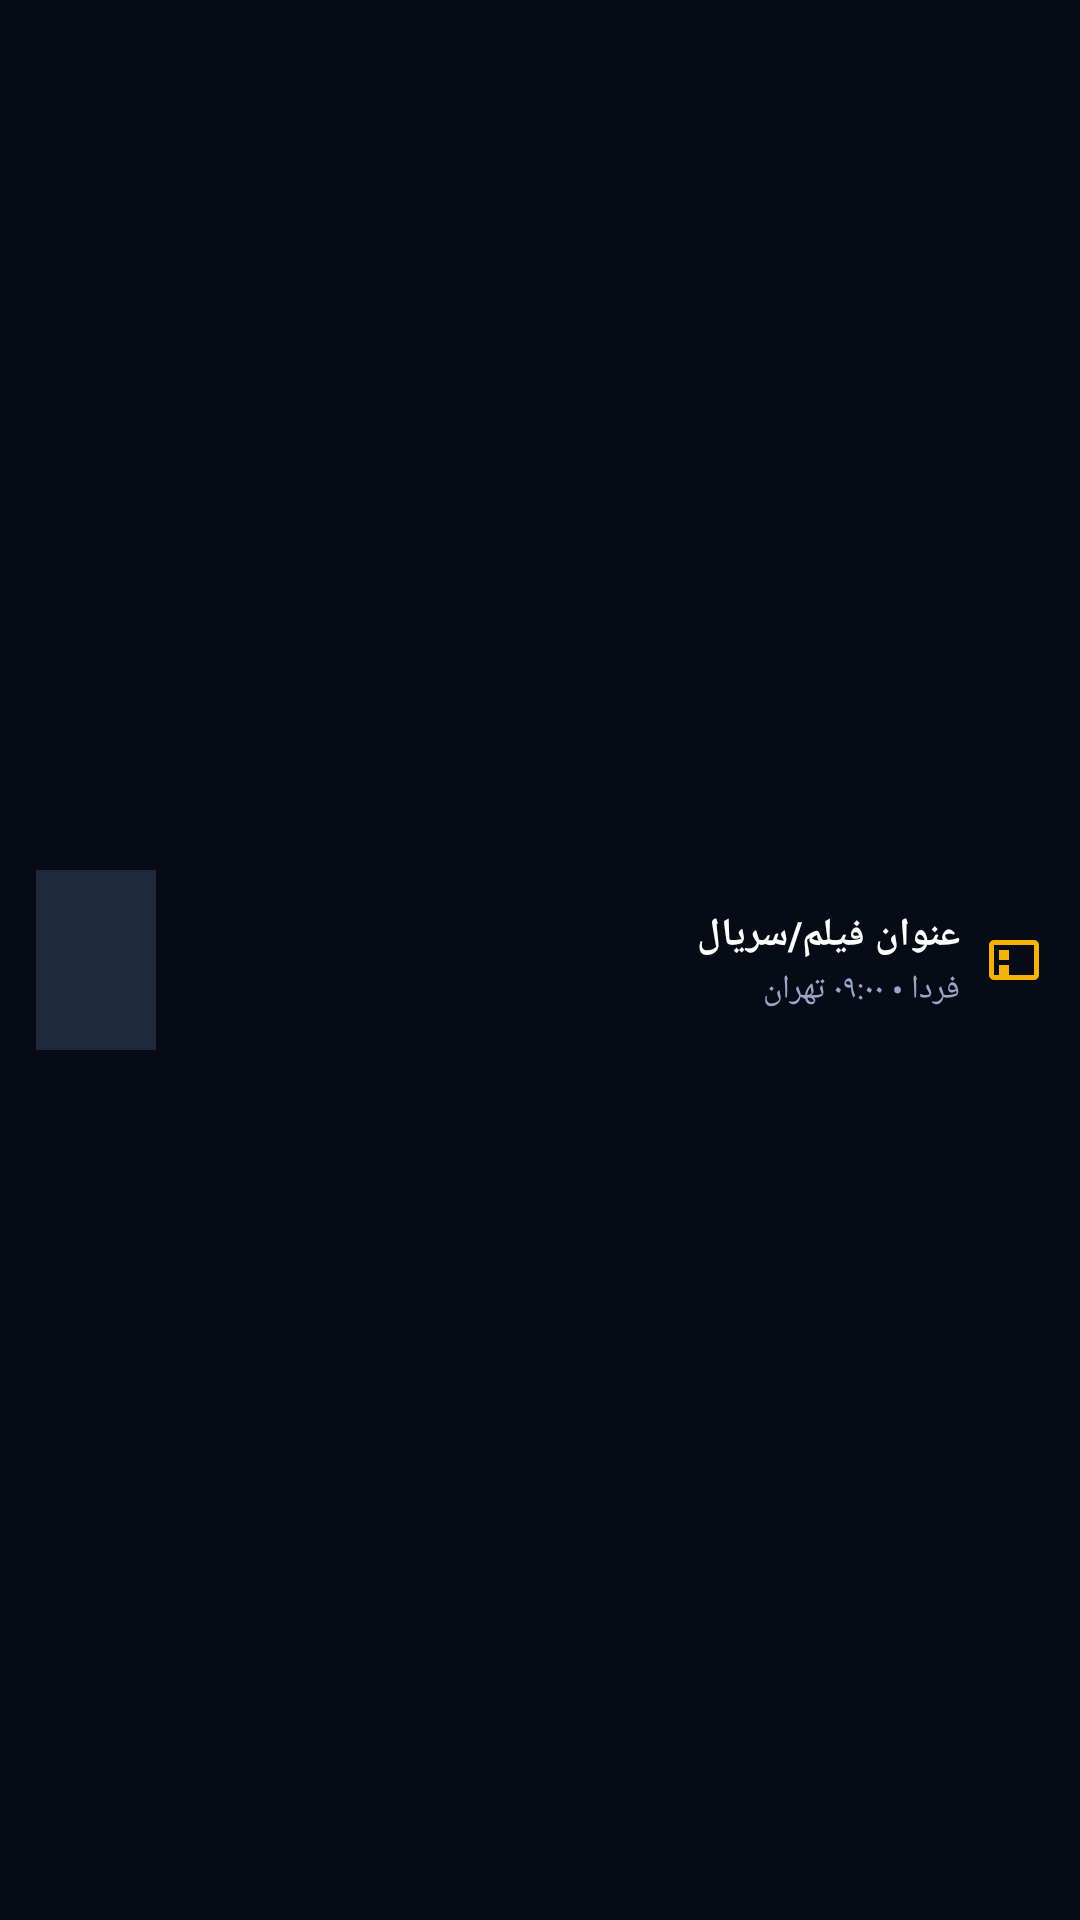

Named icons in this screenshot (1080x1920) and their centers, [x,y]:
نوع محتوا: [1014,960]
